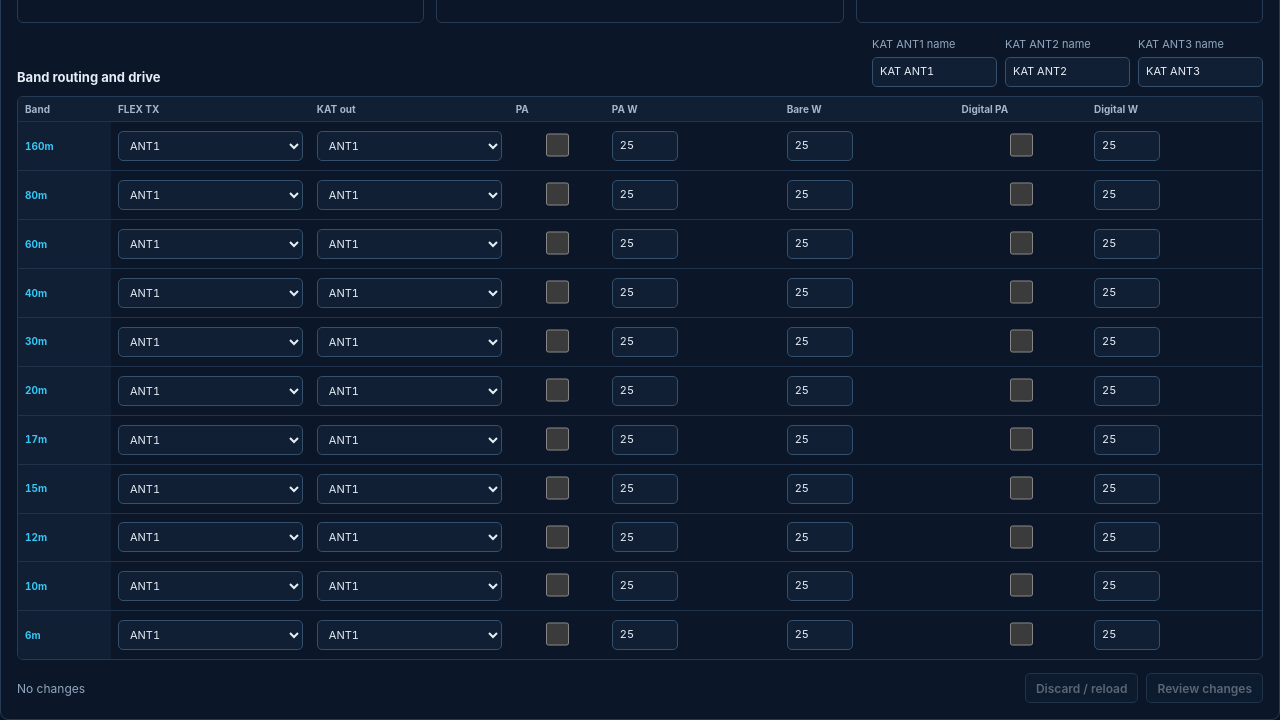
Test: AgentConfiguration › edits per-band routing, allowances and digital drive with a scoped diff
(page scrolled)
Select "ANT2" in the dropdown named "20m FLEX TX antenna". click: (210, 391)
box: [118,376,303,406]
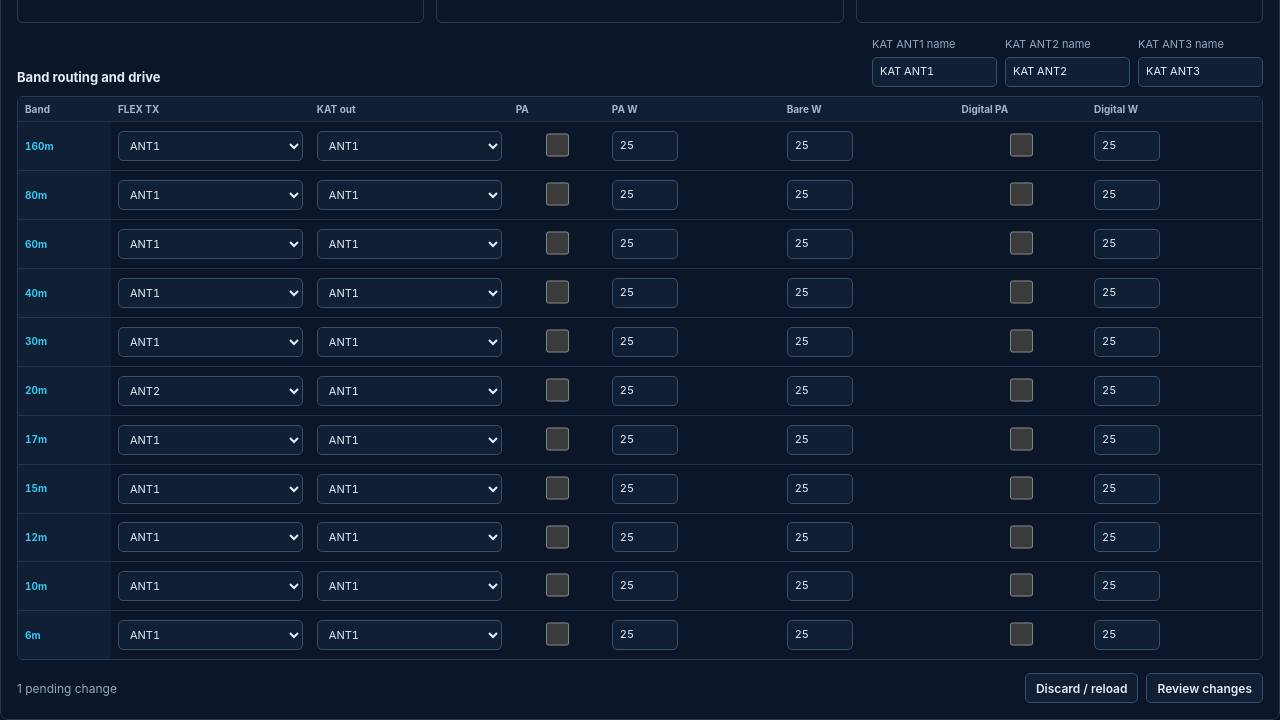
Select "ANT2" in the dropdown named "20m KAT output". click: (409, 391)
box: [317,376,502,406]
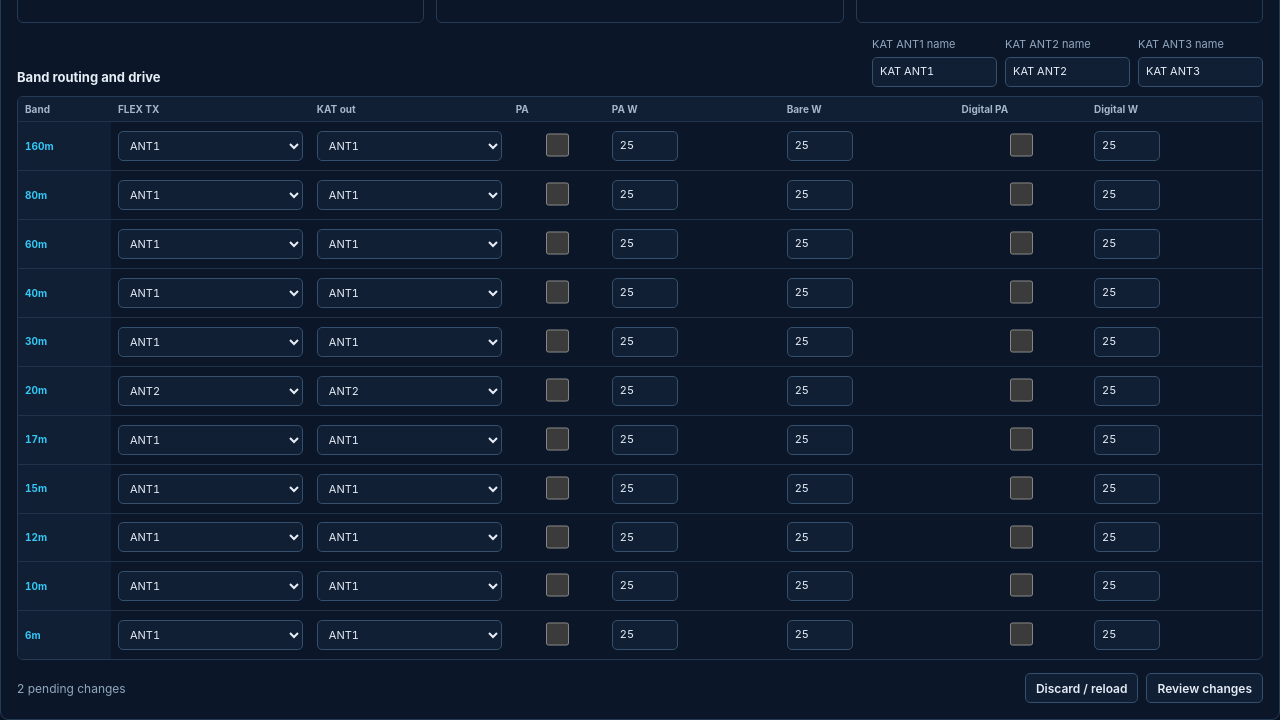
Click the checkbox named "20m amplifier allowed". click: (557, 390)
box: [546,375,569,405]
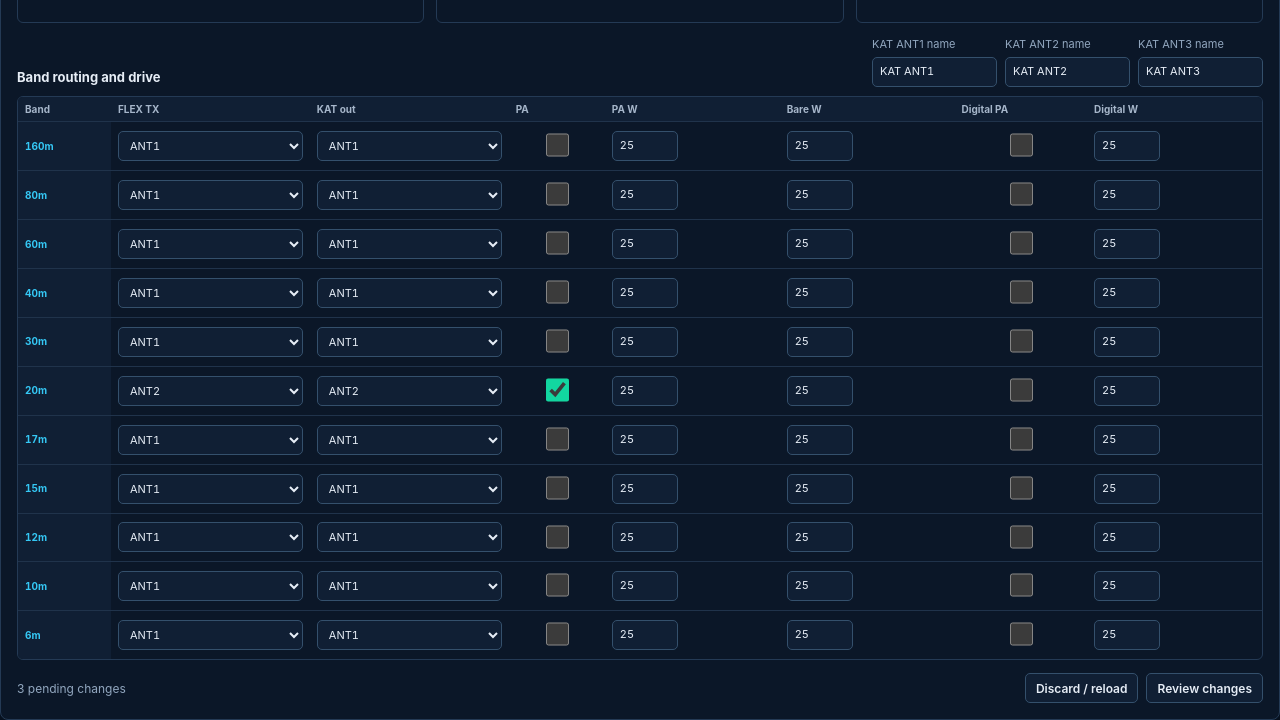
Click the checkbox named "20m digital amplifier allowed". click: (1021, 390)
box: [1010,375,1033,405]
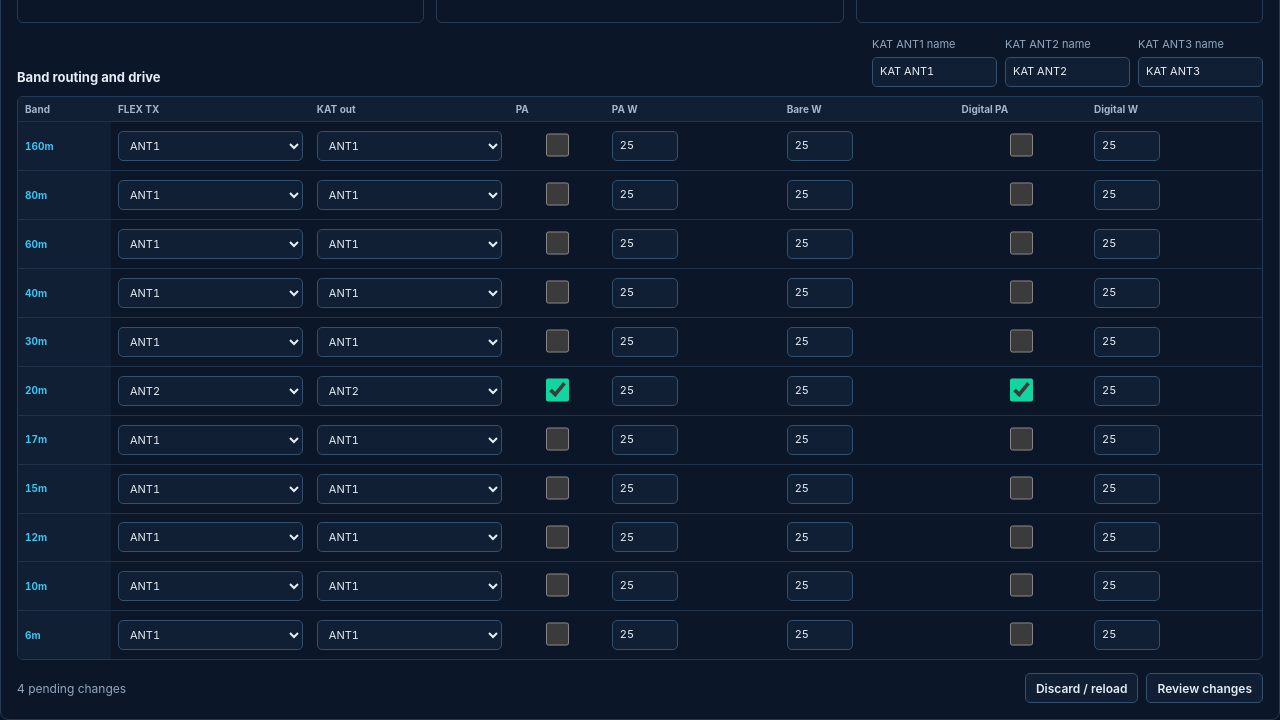
Replace the text in the number field named "20m Digital W" with "30". click: (1127, 391)
box: [1094,376,1160,406]
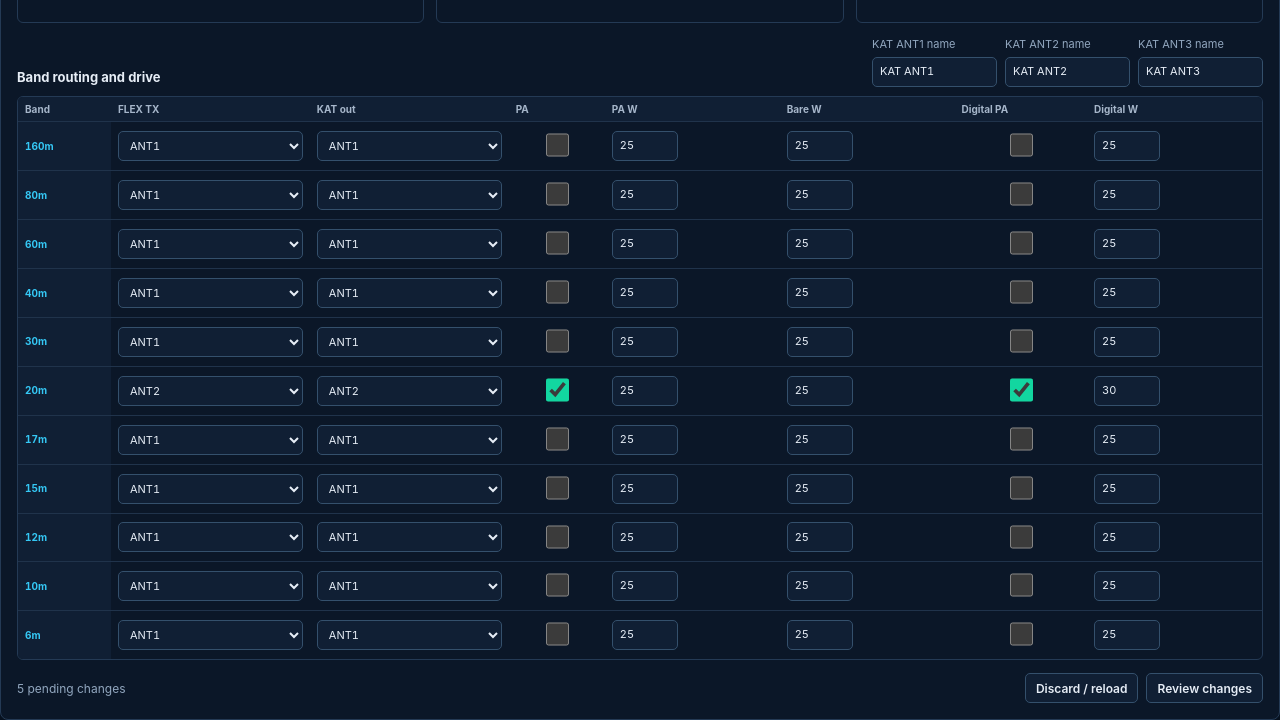
Click the button "Review changes". click: (1205, 688)
box: [1146,673,1263,703]
(page scrolled)
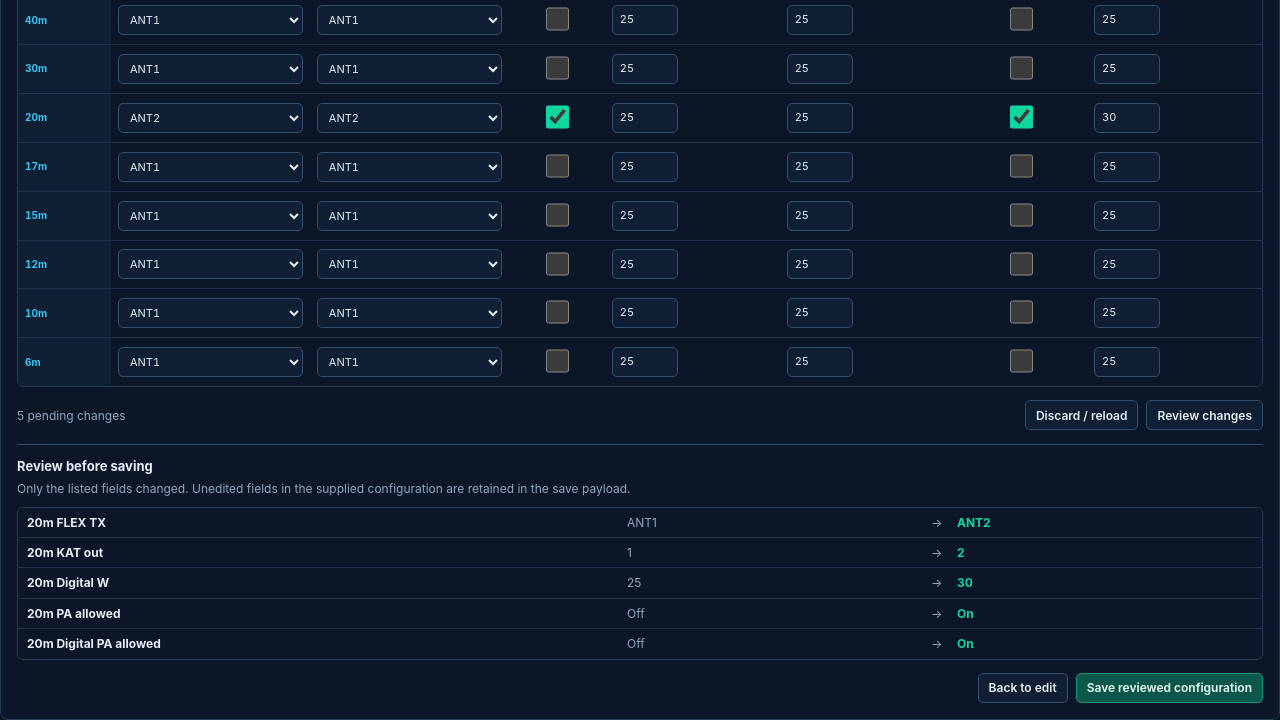
Check: the text "20m FLEX TX" is shown, box [27,515,106,530]
Check: the text "20m KAT out" is shown, box [27,545,103,560]
Check: the text "20m Digital W" is shown, box [27,575,109,590]
